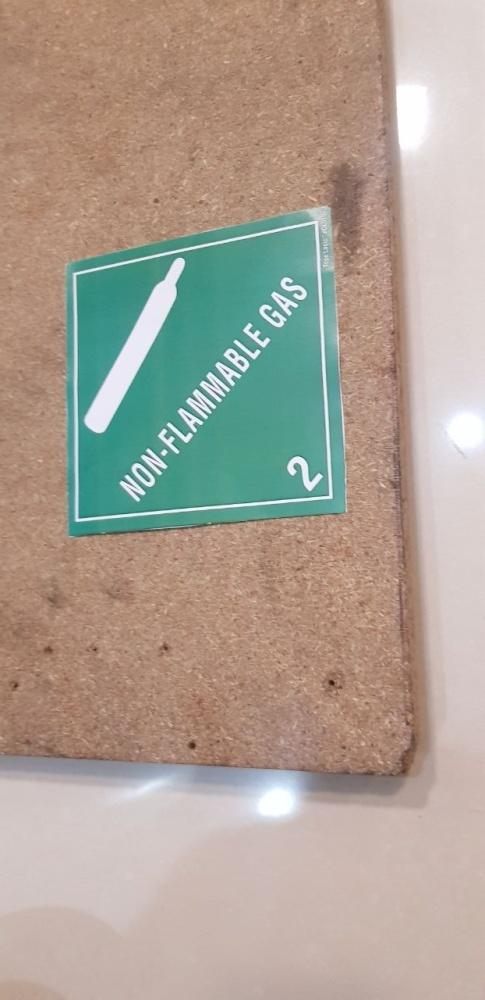non-flammable-gas: (64, 201, 349, 540)
